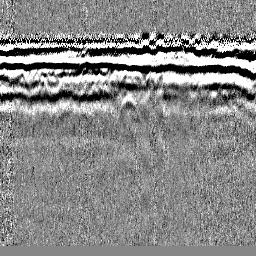cavity: (115, 93, 142, 124)
